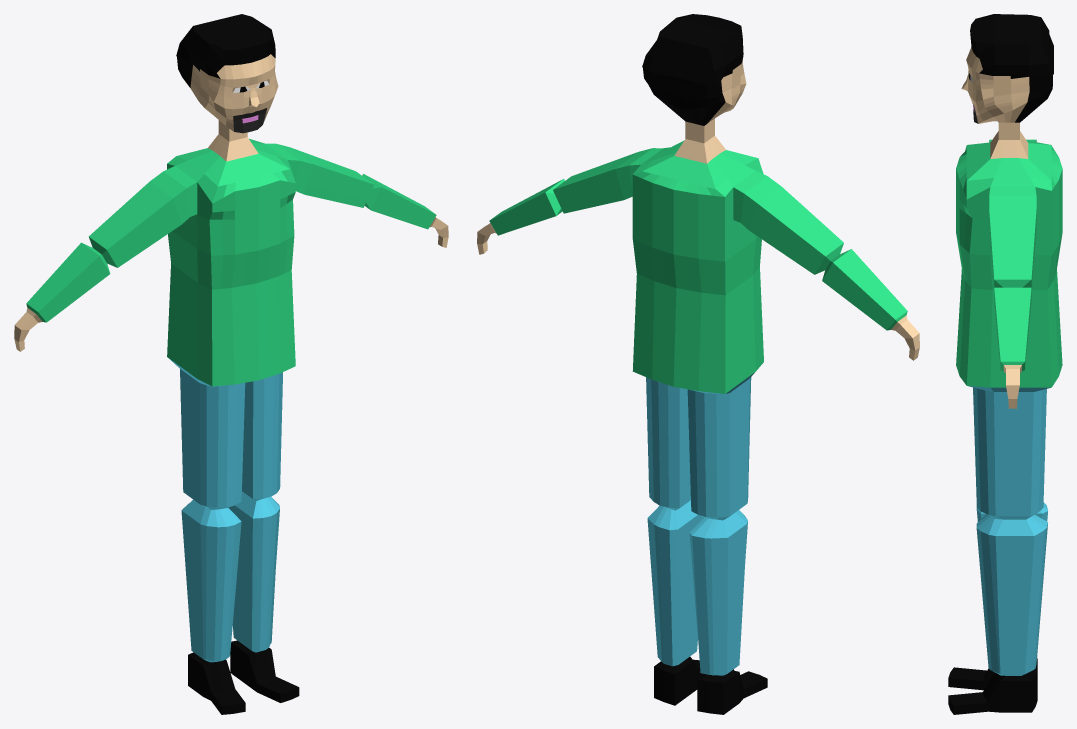
Rendered from ADAM_.fbx.
3 renders of one model, left to right at view 1: azimuth 30°, elevation 25°; view 2: azimuth 150°, elevation 25°; view 3: azimuth 270°, elevation 25°, orthographic.
Visible parts, largest first — view 1: tşört, kol, KOL, Cube, KOL.001, ayakkabı, SAÇ; view 2: tşört, kol, KOL, SAÇ, KOL.001, ayakkabı, Cube; view 3: kol, tşört, KOL.001, SAÇ, Cube, ayakkabı, el.001.
Boxes of the visible parts, x1,y1,x2,y2 form: tşört: (167, 138, 295, 386); kol: (169, 358, 282, 662); KOL: (26, 166, 197, 322); Cube: (190, 54, 278, 161); KOL.001: (266, 143, 436, 229); ayakkabı: (188, 640, 299, 714); SAÇ: (176, 14, 275, 87); tşört: (632, 140, 763, 393); kol: (646, 372, 754, 675); KOL: (733, 171, 907, 330); SAÇ: (642, 14, 743, 125); KOL.001: (489, 148, 662, 235); ayakkabı: (654, 656, 767, 714); Cube: (674, 59, 746, 163); kol: (968, 386, 1050, 675); tşört: (956, 142, 1062, 387); KOL.001: (989, 187, 1036, 370); SAÇ: (970, 14, 1053, 122); Cube: (961, 47, 1029, 158); ayakkabı: (948, 658, 1037, 714); el.001: (1003, 365, 1021, 408).
Bounding box in the file's own units: 141 × 205 × 31.9.
